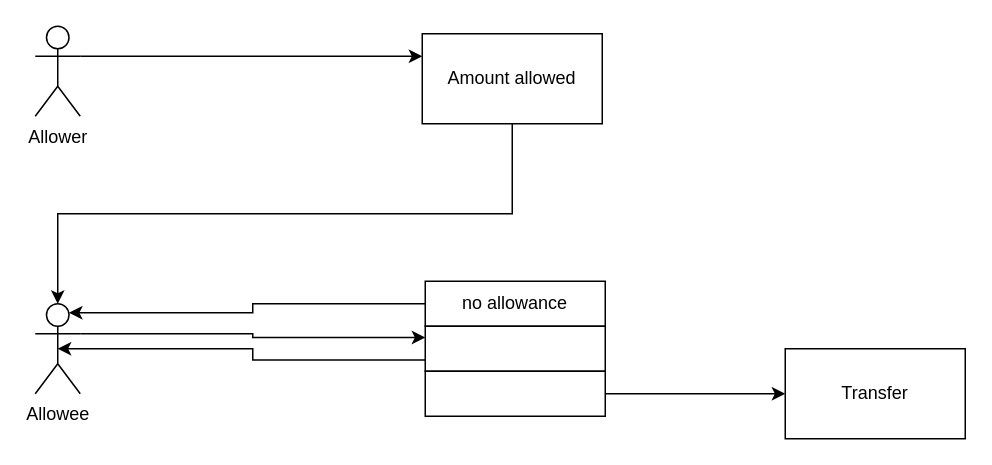
The diagram is 992 pixels wide and 465 high, and some of its shapes have lost their labels. Here are the shapes that lost their labels. From the top down, the box of each, then its label:
(424, 325, 605, 371): not enough allowance
(424, 370, 605, 416): Otherwise
